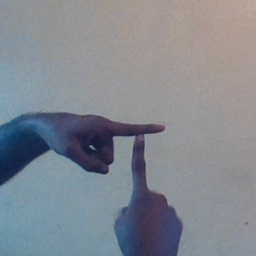T: (81, 106, 188, 209)
